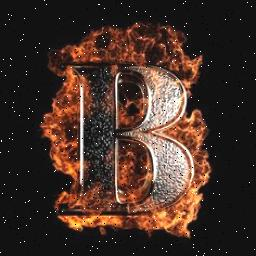b: (64, 52, 208, 224)
